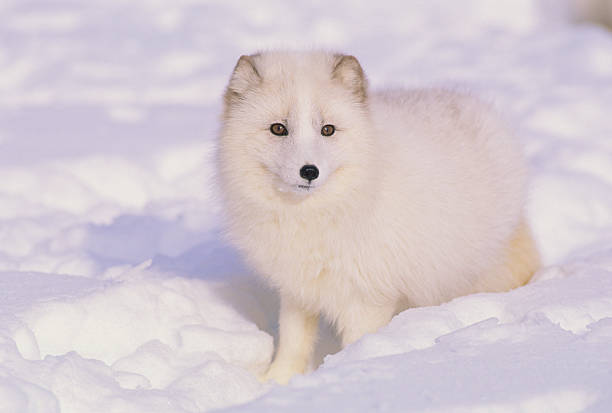arcticfox: (245, 70, 354, 207)
